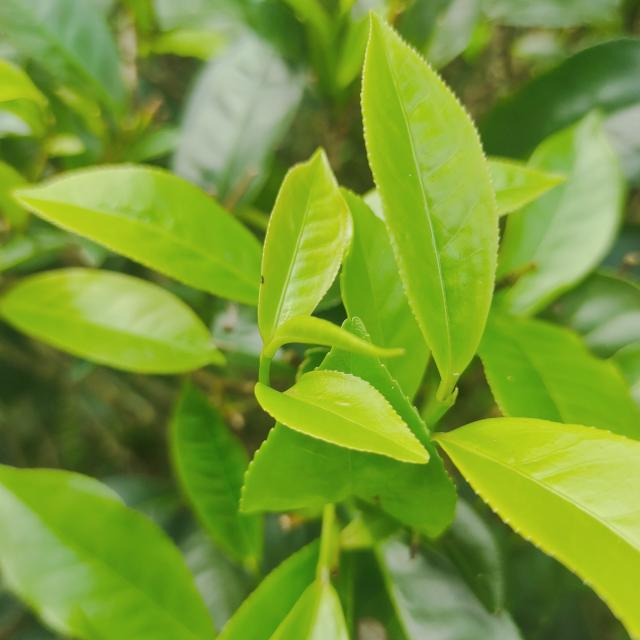unopened_leaf: (253, 305, 420, 371)
